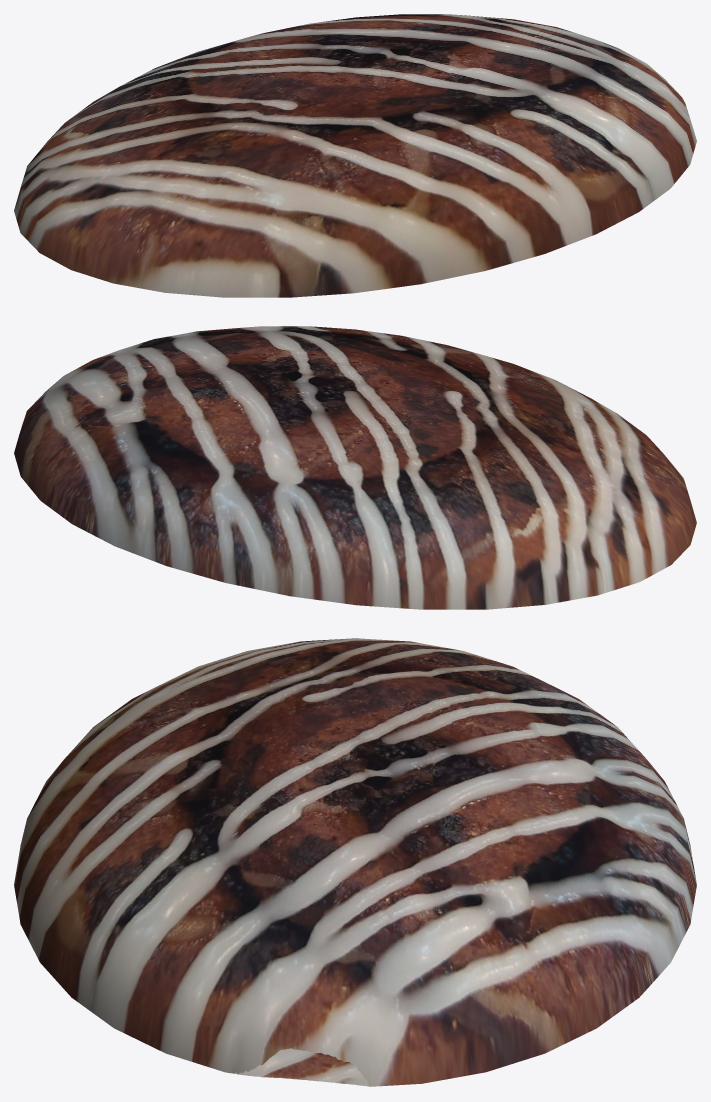
File: Modelo3DRollDeCanela.FBX
3 renders of one model, top to bottom at view 1: azimuth 30°, elevation 25°; view 2: azimuth 150°, elevation 25°; view 3: azimuth 270°, elevation 25°, orthographic. The views are drawn at different scales.
Visible parts, largest first — view 1: Rolldecanela; view 2: Rolldecanela; view 3: Rolldecanela.
Boxes of the visible parts, x1,y1,x2,y2 form: Rolldecanela: (14, 14, 696, 297); Rolldecanela: (14, 326, 696, 609); Rolldecanela: (14, 638, 696, 1086).
Bounding box in the file's own units: 62.39 × 10.1 × 44.42.
Materials: 1 (1 with a texture image).
